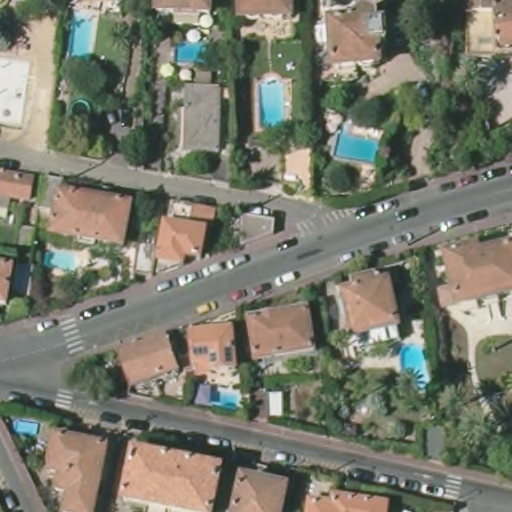pool: (334, 125, 388, 167), (257, 77, 290, 133), (400, 341, 435, 390), (69, 11, 99, 59), (44, 247, 88, 278), (172, 40, 218, 67), (206, 384, 247, 412), (12, 418, 41, 437)
